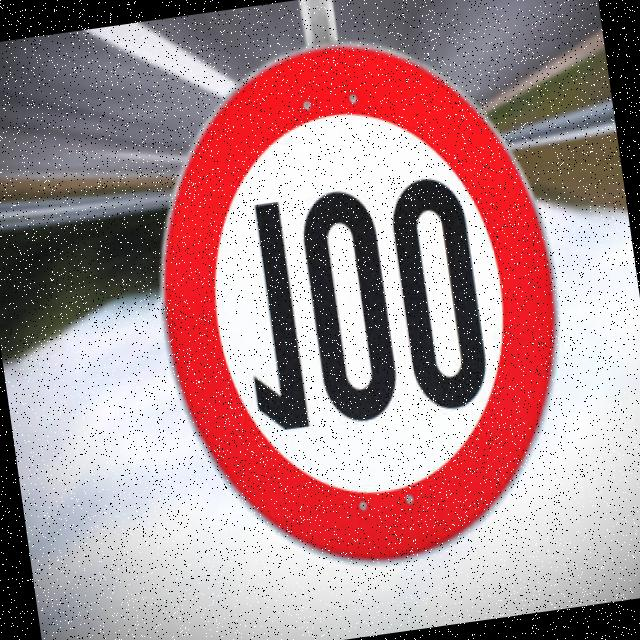speed_limit_100: (120, 15, 597, 606)
